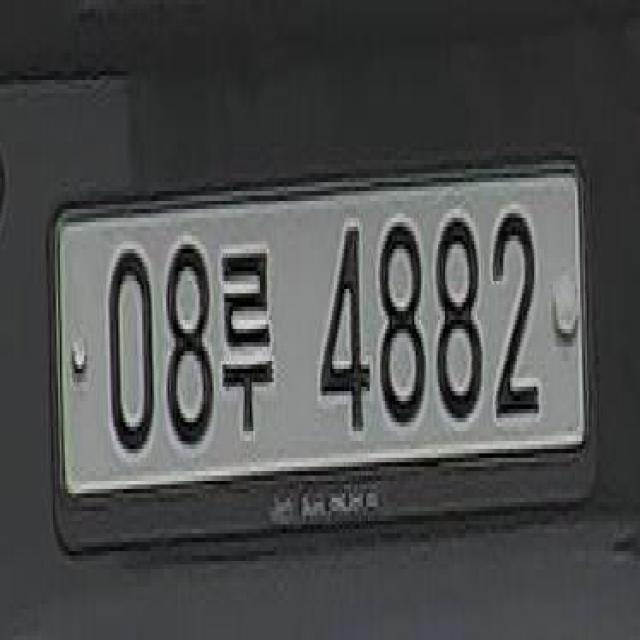illegal_plate: (49, 150, 600, 538)
